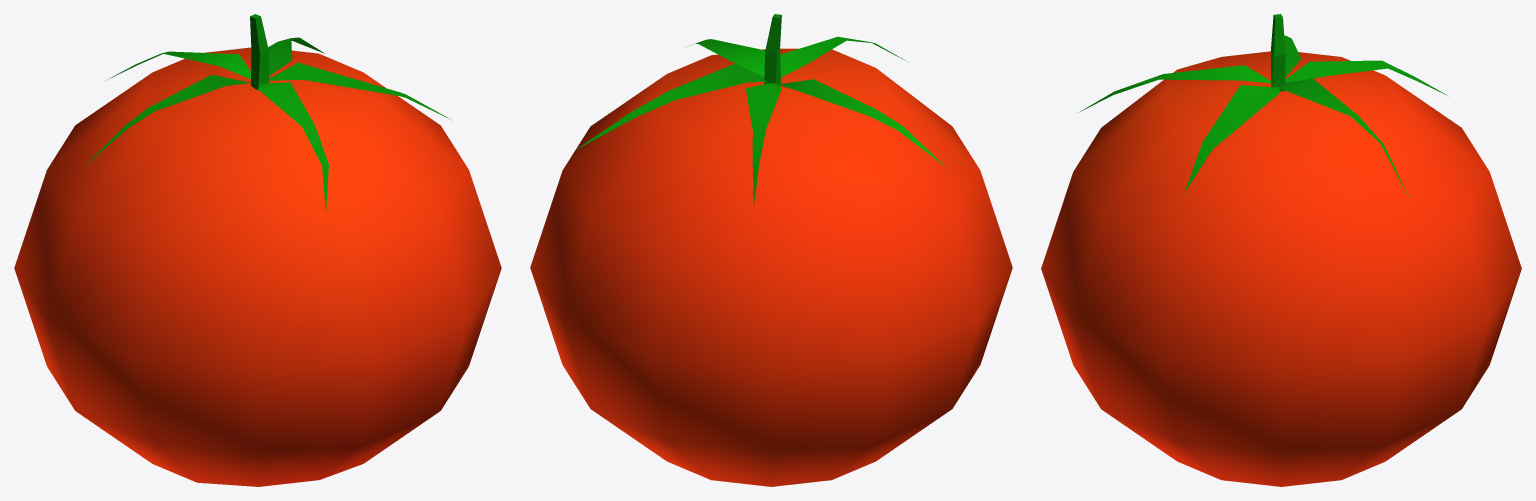
The model's file is Tomato.fbx.
The picture shows the model from 3 angles, left to right: view 1: azimuth 30°, elevation 25°; view 2: azimuth 150°, elevation 25°; view 3: azimuth 270°, elevation 25°; orthographic projection.
Parts seen in each view (by area): view 1: Tomato; view 2: Tomato; view 3: Tomato.
Part boxes in pixels (x1,y1,x2,y2): Tomato: (14,14,501,486); Tomato: (530,14,1012,486); Tomato: (1041,14,1521,486).
Bounding box in the file's own units: 422 × 413 × 422.
